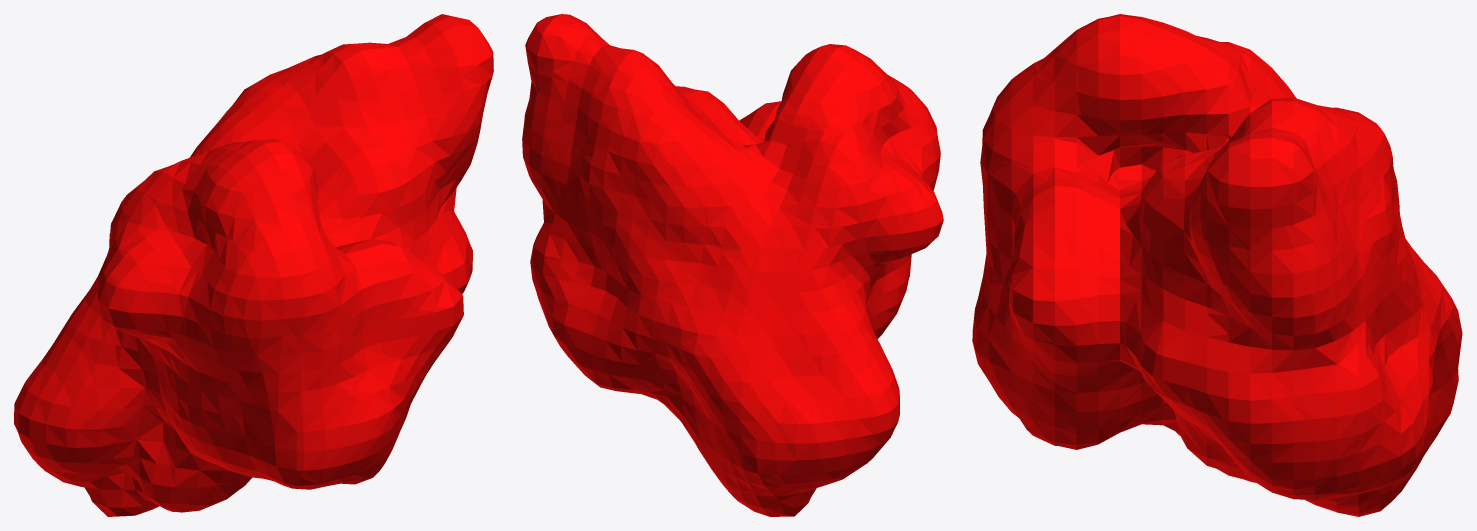
File: rsd_coarse.dae
The picture shows the model from 3 angles, left to right: view 1: azimuth 30°, elevation 25°; view 2: azimuth 150°, elevation 25°; view 3: azimuth 270°, elevation 25°; orthographic projection. The views are drawn at different scales.
Parts seen in each view (by area): view 1: rsd; view 2: rsd; view 3: rsd.
Boxes of the visible parts, <box> form: rsd: <box>14,14,493,516</box>; rsd: <box>522,14,943,516</box>; rsd: <box>972,14,1462,516</box>.
Size of the model in its own units: 54.23 by 54.55 by 45.43.
